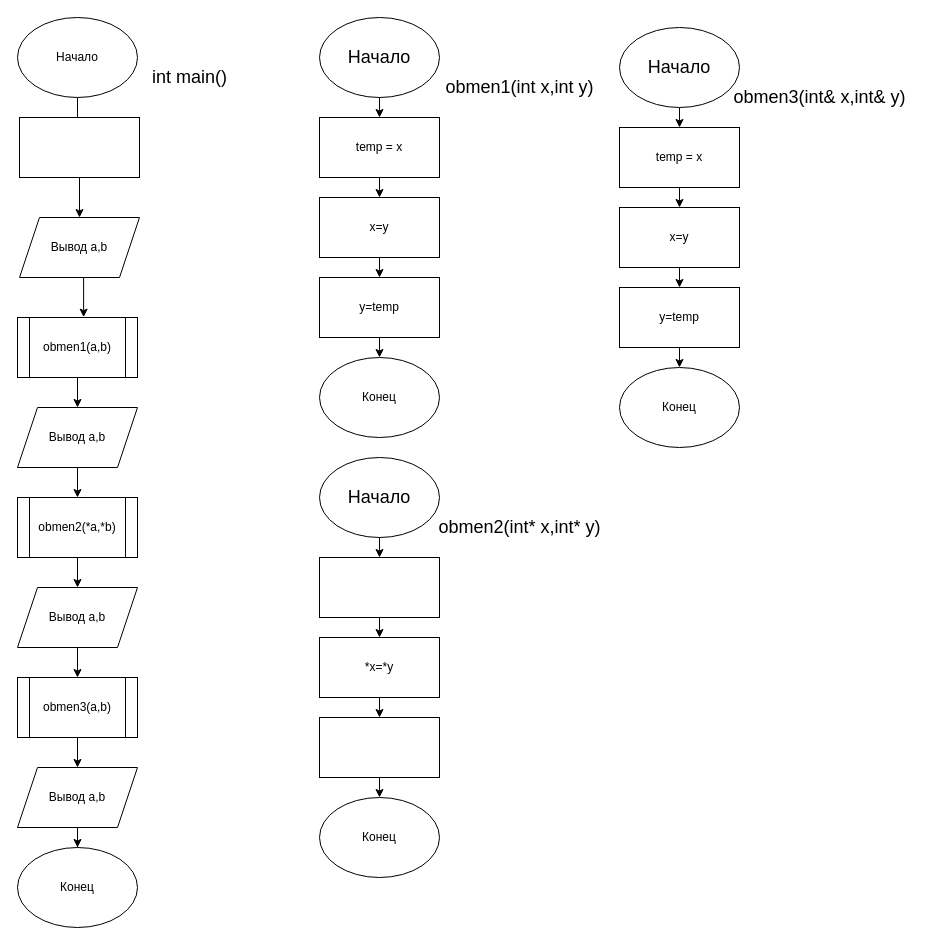
Image size: 937x945. Some labels were removed from this diagram. Each missing label, with the centre of its shape:
*y=temp: (x=379, y=747)
a=2, b=5: (x=79, y=147)
temp = *x: (x=379, y=587)
